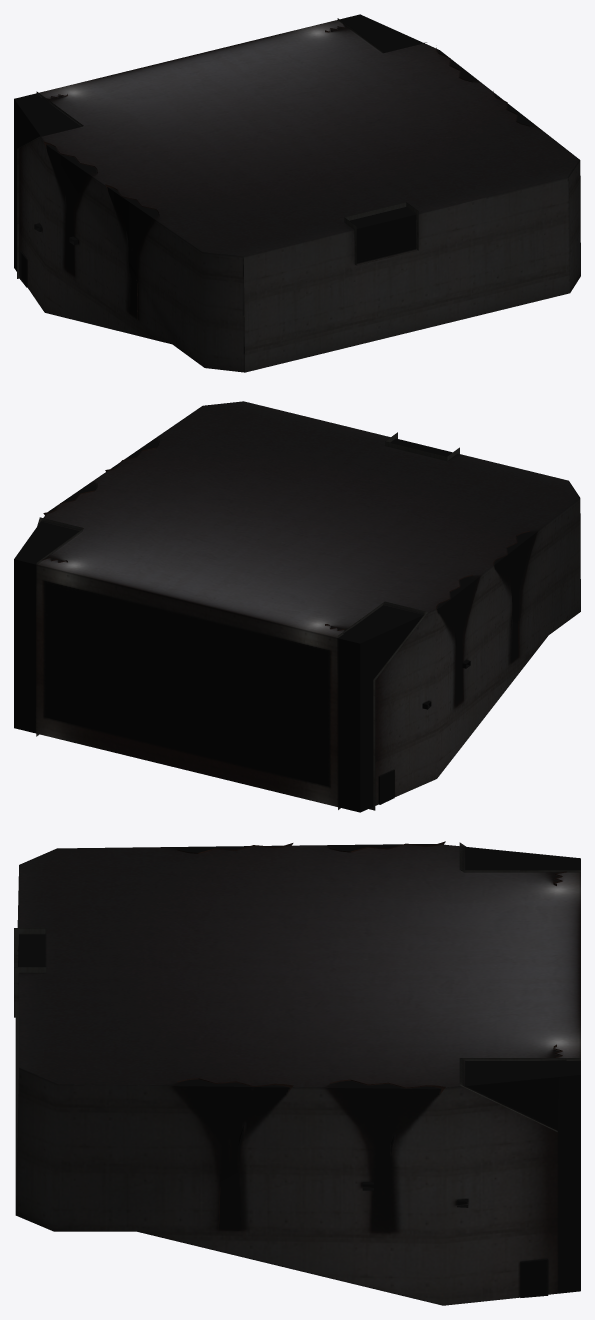
The model's file is vr_cinema_environment.obj.
The picture shows the model from 3 angles, top to bottom: view 1: azimuth 30°, elevation 25°; view 2: azimuth 150°, elevation 25°; view 3: azimuth 270°, elevation 25°; orthographic projection. The views are drawn at different scales.
Visible parts, largest first — view 1: Object_4; view 2: Object_4; view 3: Object_4.
Boxes of the visible parts, box(x1,y1,x2,y2) form: Object_4: box(14, 14, 580, 372); Object_4: box(14, 401, 580, 812); Object_4: box(14, 841, 580, 1305).
Bounding box in the file's own units: 30.94 × 13.19 × 29.86.
Materials: 1 (1 with a texture image).
